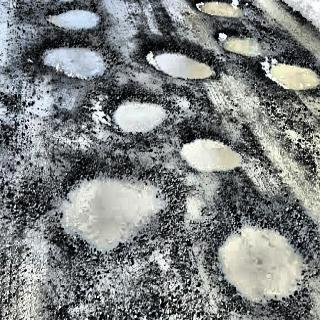pothole: (42, 148, 170, 258), (215, 221, 313, 312), (143, 41, 224, 84), (178, 131, 238, 182), (42, 40, 107, 86), (108, 92, 168, 140), (39, 1, 107, 37), (264, 54, 320, 97), (217, 28, 264, 61), (195, 0, 244, 24)
